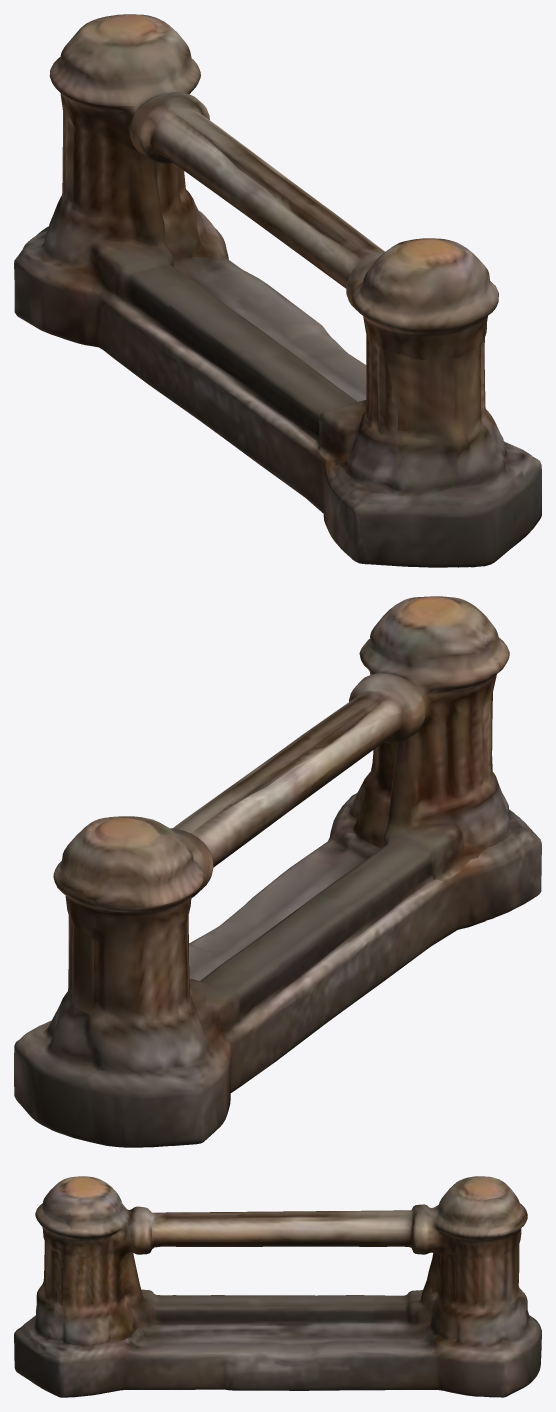
File: import-1780595790551-railway2.web.webp.glb
3 views of the same model, one above another, from view 1: azimuth 30°, elevation 25°; view 2: azimuth 150°, elevation 25°; view 3: azimuth 270°, elevation 25° (orthographic). The views are drawn at different scales.
Size of the model in its own units: 0.0538 by 0.0769 by 0.1995.
Materials: 1 (1 with a texture image).
